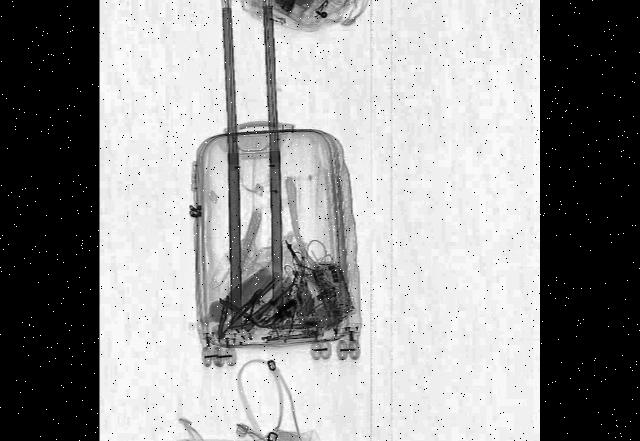Pliers: (229, 280, 266, 336)
